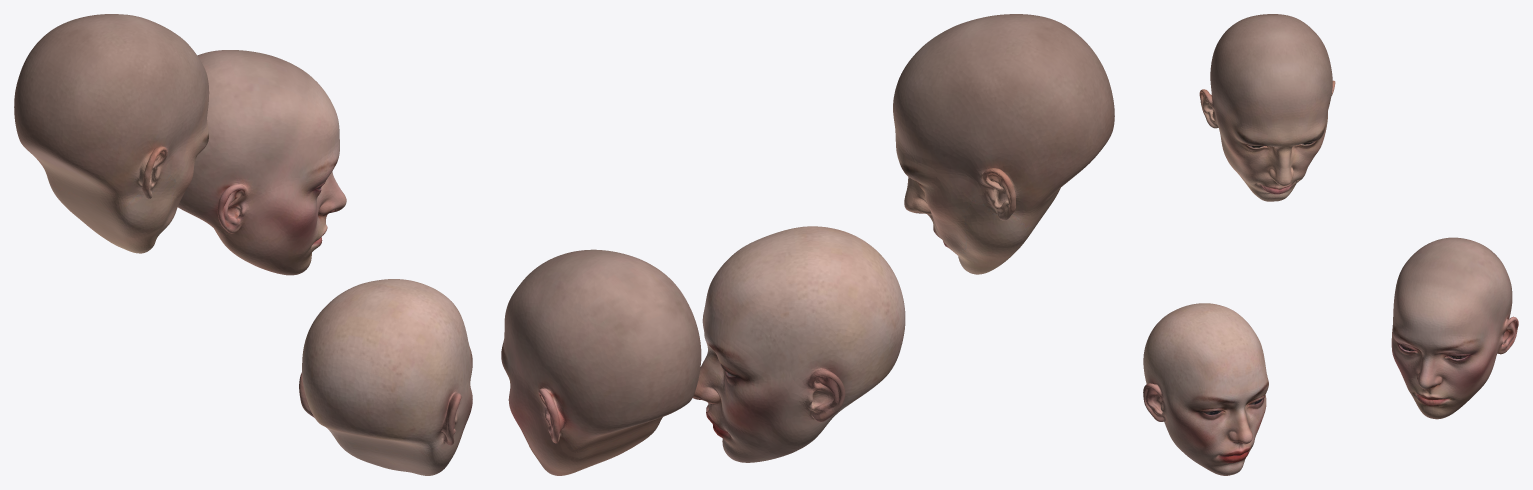
3 renders of one model, left to right at view 1: azimuth 30°, elevation 25°; view 2: azimuth 150°, elevation 25°; view 3: azimuth 270°, elevation 25°, orthographic. The views are drawn at different scales.
Parts seen in each view (by area): view 1: new_04_face, new_03_face, new_02_face; view 2: new_04_face, new_03_face, new_02_face; view 3: new_04_face, new_02_face, new_03_face.
Boxes of the visible parts, <box> form: new_04_face: <box>14,14,209,253</box>; new_03_face: <box>299,279,472,475</box>; new_02_face: <box>178,50,346,275</box>; new_04_face: <box>893,14,1114,274</box>; new_03_face: <box>692,226,905,462</box>; new_02_face: <box>501,249,701,475</box>; new_04_face: <box>1199,14,1335,201</box>; new_02_face: <box>1391,237,1518,419</box>; new_03_face: <box>1143,303,1268,475</box>.
Size of the model in its own units: 3.51 by 3.87 by 3.72.
6 materials, 6 textured.
